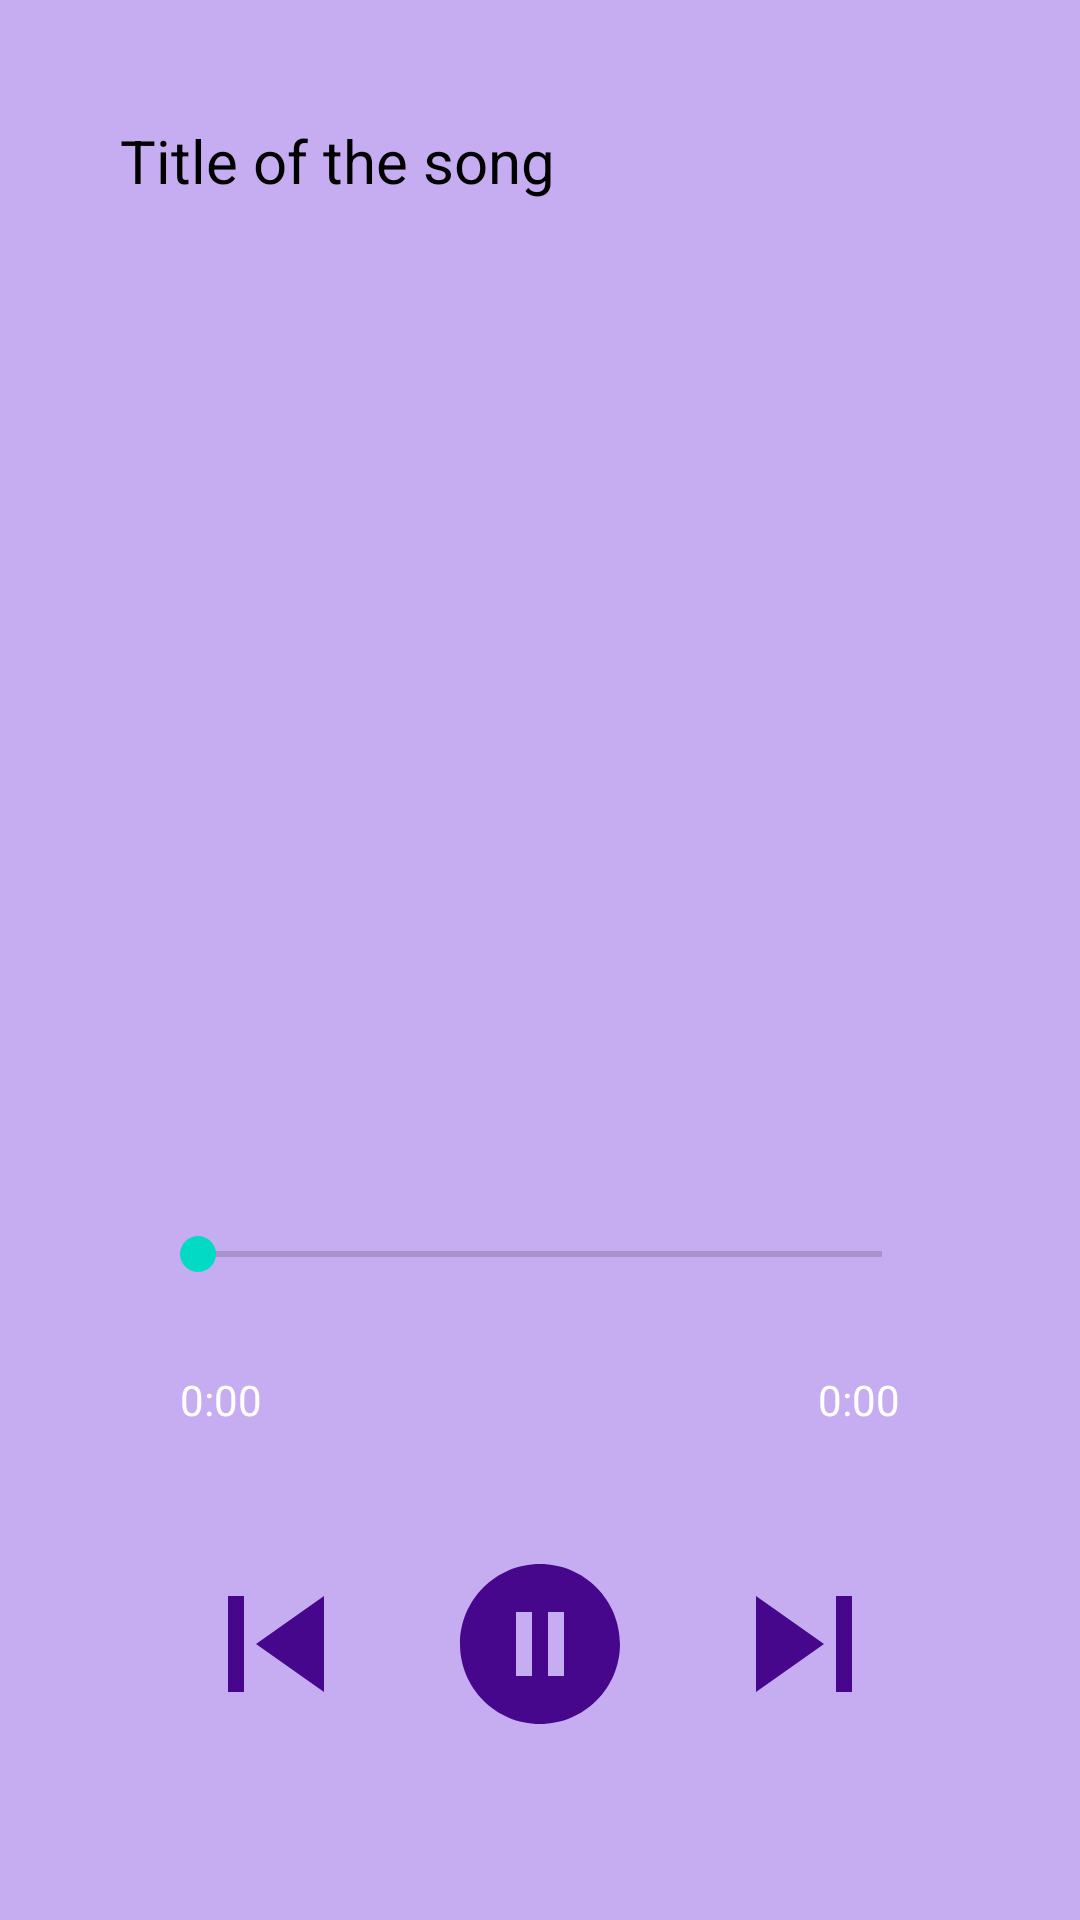

Where to tap for icons on this 1080*1920 app screen, as point (x, y):
pause circle: point (540, 1644)
skip next: point (804, 1644)
skip previous: point (276, 1644)
